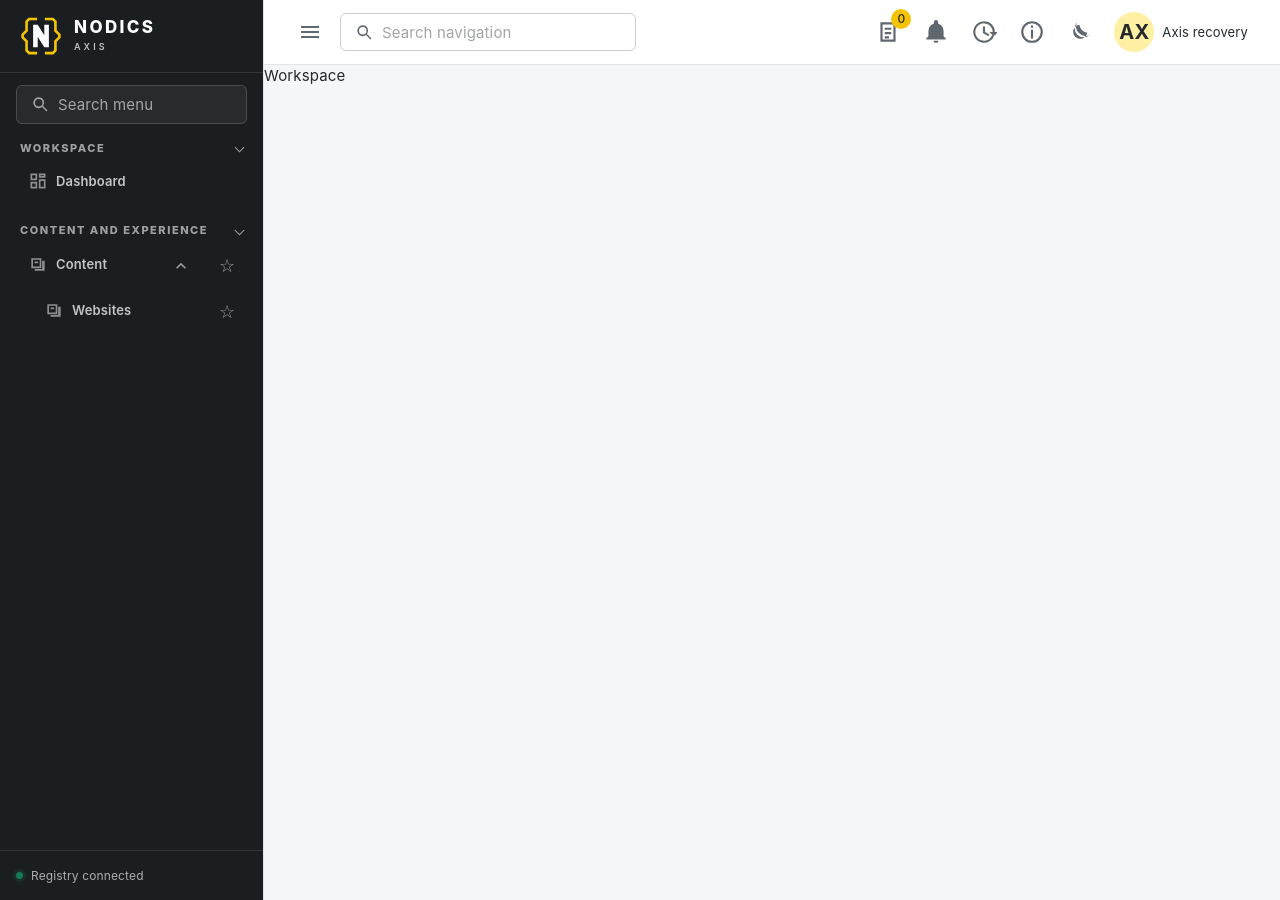
Axis application shell navigation › collapses the desktop sidebar to an accessible icon rail
This screenshot has width=1280, height=900.
Expected: the text "NODICS" is shown, [74,19,156,37]
Step 1. Click the button named "Collapse navigation" → (310,32), box [288,10,332,54]
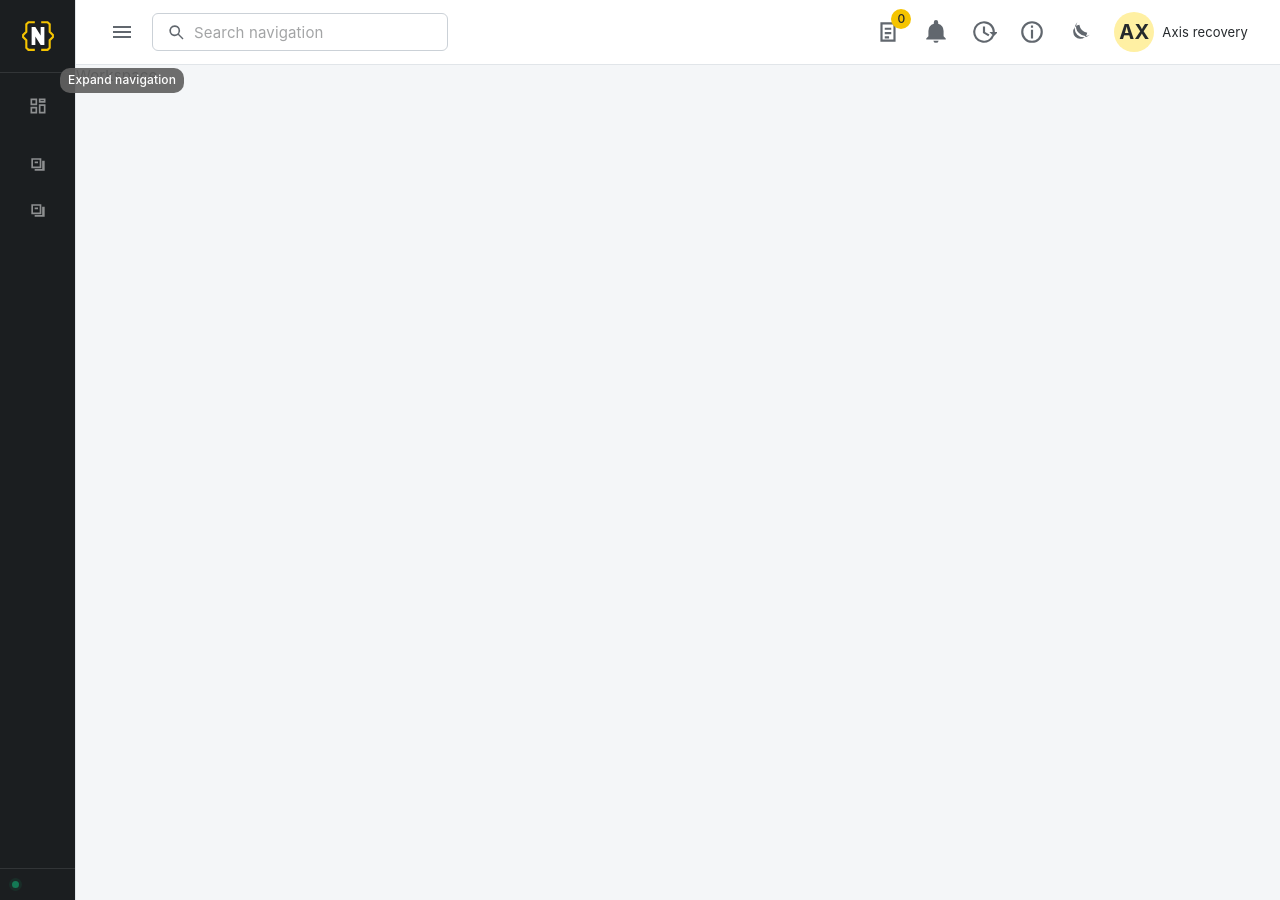
Expected: the button named "Expand navigation" is shown, [100,10,144,54]
Expected: the text "NODICS" is gone
Expected: the button named "Content" is shown, [28,154,48,174]
